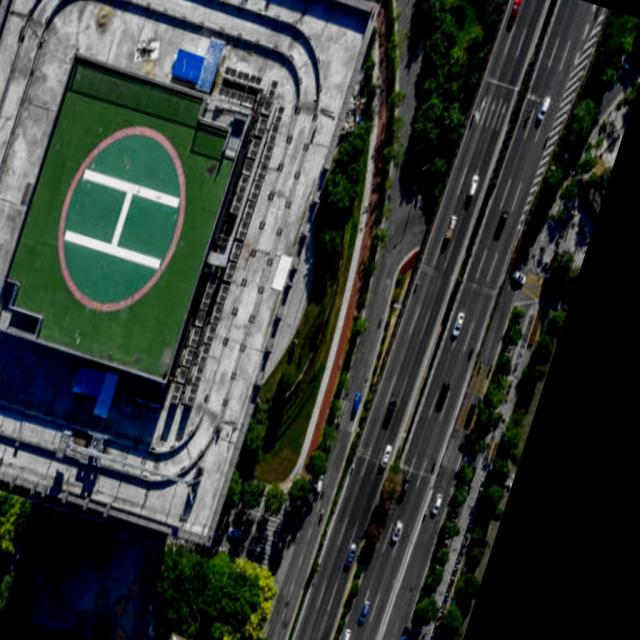helipad: (51, 120, 190, 314)
